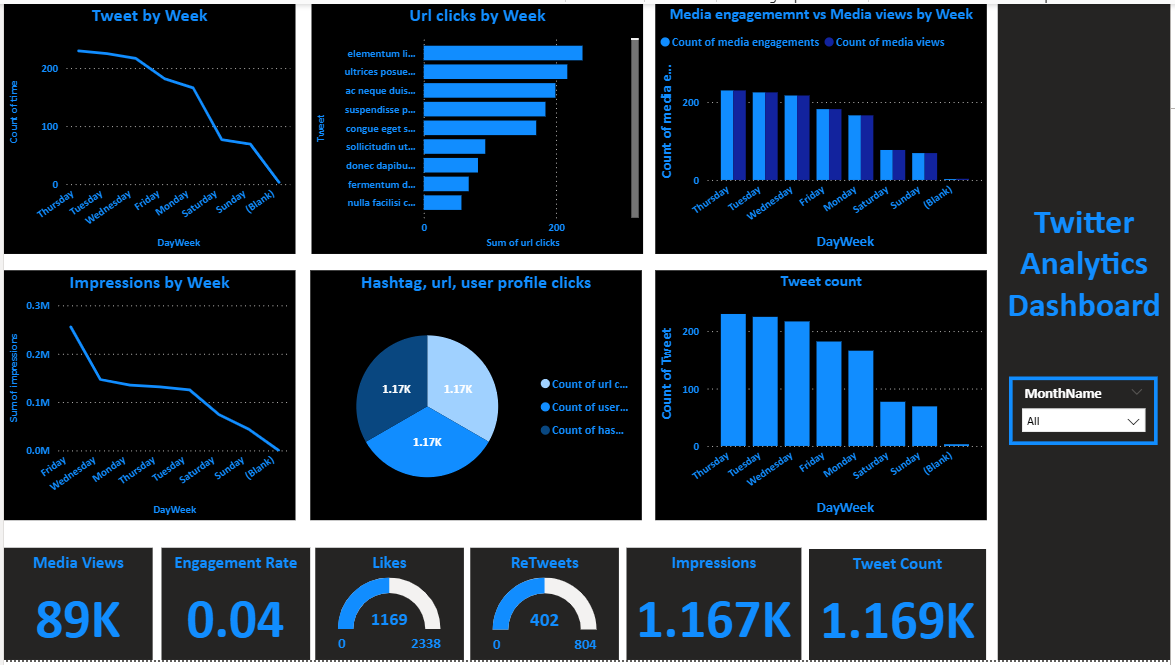

The dashboard page shown, as its layout file describes it:
{"tool":"powerbi","page":{"name":"TrainingProject","canvas":[1280,720],"ordinal":0},"visuals":[{"type":"textbox","box":[1090.9,0,189.4,720.4],"z":0},{"type":"cardVisual","title":"Media Views","fields":{"Data":["Sum(SocialMedia (1).media views)"]},"box":[0,597.1,162.9,122.9],"z":1000},{"type":"cardVisual","title":"Impressions","fields":{"Data":["CountNonNull(SocialMedia (1).impressions)"]},"box":[682.9,596.5,191.8,123.5],"z":2000},{"type":"cardVisual","title":"Engagement Rate","fields":{"Data":["Avg(SocialMedia (1).engagement rate)"]},"box":[172.9,597.1,162.9,122.9],"z":3000},{"type":"cardVisual","title":"Tweet Count","fields":{"Data":["CountNonNull(SocialMedia (1).Tweet)"]},"box":[884.3,597.9,194.3,122.1],"z":4000},{"type":"gauge","title":"Likes","fields":{"Y":["CountNonNull(SocialMedia (1).media views)"]},"box":[341.8,597.1,162.9,122.9],"z":5000},{"type":"gauge","title":"ReTweets","fields":{"Y":["Max(SocialMedia (1).retweets)"]},"box":[511.2,596.5,163.5,123.5],"z":6000},{"type":"slicer","title":"ReTweets","fields":{"Values":["SocialMedia (1).MonthName"]},"box":[1103.3,408.9,163.3,75.5],"z":7000},{"type":"lineChart","title":"Tweet by Week","fields":{"Category":["SocialMedia (1).DayWeek"],"Y":["CountNonNull(SocialMedia (1).time)"]},"box":[0,0,319.7,274.4],"z":8000},{"type":"lineChart","title":"Impressions by Week","fields":{"Y":["Sum(SocialMedia (1).impressions)"],"Category":["SocialMedia (1).DayWeek"]},"box":[0,292.3,319.7,274.4],"z":9000},{"type":"clusteredBarChart","title":"Url clicks by Week","fields":{"Category":["SocialMedia (1).Tweet"],"Y":["Sum(SocialMedia (1).url clicks)"]},"box":[337.1,0,364.3,274.3],"z":10000},{"type":"pieChart","title":"Hashtag, url, user profile clicks","fields":{"Y":["CountNonNull(SocialMedia (1).url clicks)","CountNonNull(SocialMedia (1).user profile clicks)","CountNonNull(SocialMedia (1).hashtag clicks)"]},"box":[335.7,292.9,364.3,274.3],"z":11000},{"type":"clusteredColumnChart","title":"Media engagememnt vs Media views by Week","fields":{"Category":["SocialMedia (1).DayWeek"],"Y":["CountNonNull(SocialMedia (1).media engagements)","CountNonNull(SocialMedia (1).media views)"]},"box":[714.3,0,364.3,274.3],"z":12000},{"type":"clusteredColumnChart","title":"Tweet count","fields":{"Category":["SocialMedia (1).DayWeek"],"Y":["CountNonNull(SocialMedia (1).Tweet)"]},"box":[714.3,292.9,364.3,274.3],"z":13000}]}

Visuals, with their boxes in screenshot pixels (x1, y1, x2, y2), scaled from the page's 1280x720 canvas onto the 1175x665 screenshot:
textbox: (1001, 0, 1174, 664)
"Media Views" cardVisual: (0, 551, 150, 664)
"Impressions" cardVisual: (627, 551, 803, 664)
"Engagement Rate" cardVisual: (159, 551, 308, 664)
"Tweet Count" cardVisual: (812, 552, 990, 664)
"Likes" gauge: (314, 551, 463, 664)
"ReTweets" gauge: (469, 551, 619, 664)
"ReTweets" slicer: (1013, 378, 1163, 447)
"Tweet by Week" lineChart: (0, 0, 293, 253)
"Impressions by Week" lineChart: (0, 270, 293, 523)
"Url clicks by Week" clusteredBarChart: (309, 0, 644, 253)
"Hashtag, url, user profile clicks" pieChart: (308, 271, 643, 524)
"Media engagememnt vs Media views by Week" clusteredColumnChart: (656, 0, 990, 253)
"Tweet count" clusteredColumnChart: (656, 271, 990, 524)
